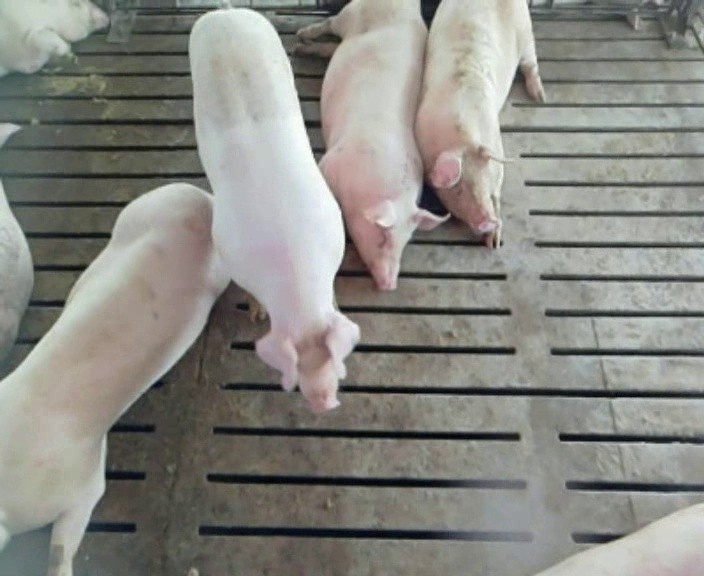pig: (0, 186, 228, 574), (189, 10, 358, 409), (290, 2, 446, 289), (415, 2, 544, 246), (539, 503, 703, 574), (0, 2, 108, 75)
